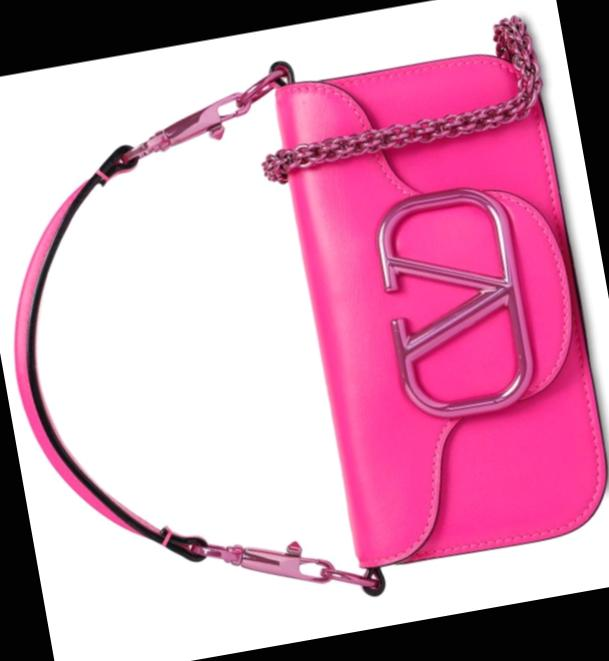VALENTINO: (368, 178, 540, 424)
